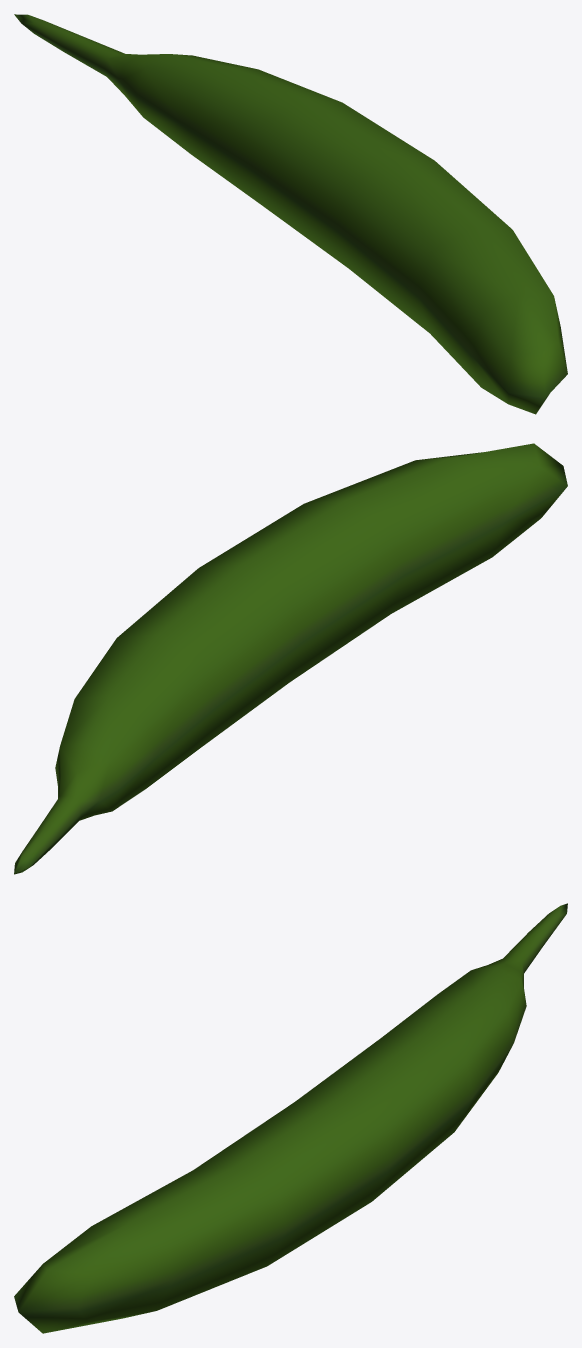
The model's file is GreenBean.fbx.
The picture shows the model from 3 angles, top to bottom: view 1: azimuth 30°, elevation 25°; view 2: azimuth 150°, elevation 25°; view 3: azimuth 330°, elevation 25°; orthographic projection. The views are drawn at different scales.
Parts seen in each view (by area): view 1: Apple (4); view 2: Apple (4); view 3: Apple (4).
Boxes of the visible parts, x1,y1,x2,y2 form: Apple (4): (14, 14, 567, 414); Apple (4): (14, 443, 567, 874); Apple (4): (14, 903, 567, 1333).
Bounding box in the file's own units: 0.2471 × 0.1772 × 1.55.
